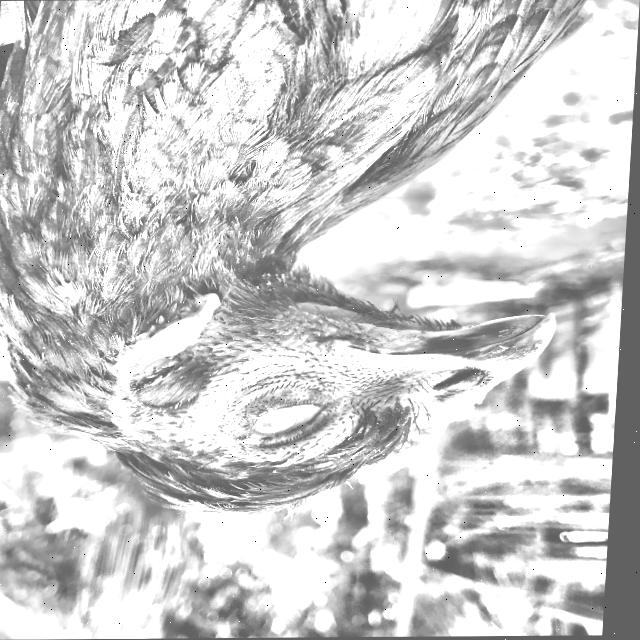Coryza: (0, 60, 609, 578)
